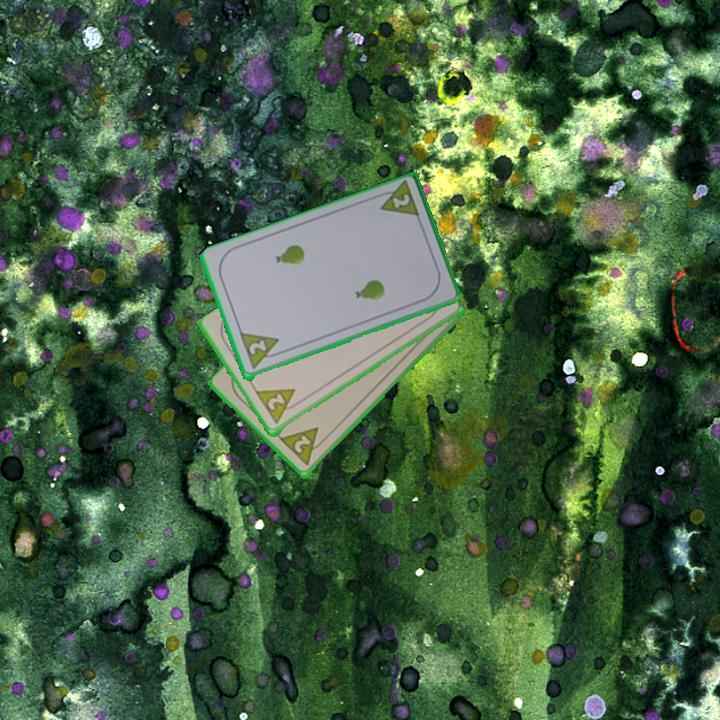2p: (252, 385, 304, 427), (372, 179, 422, 222), (236, 330, 286, 372), (290, 432, 314, 456)
